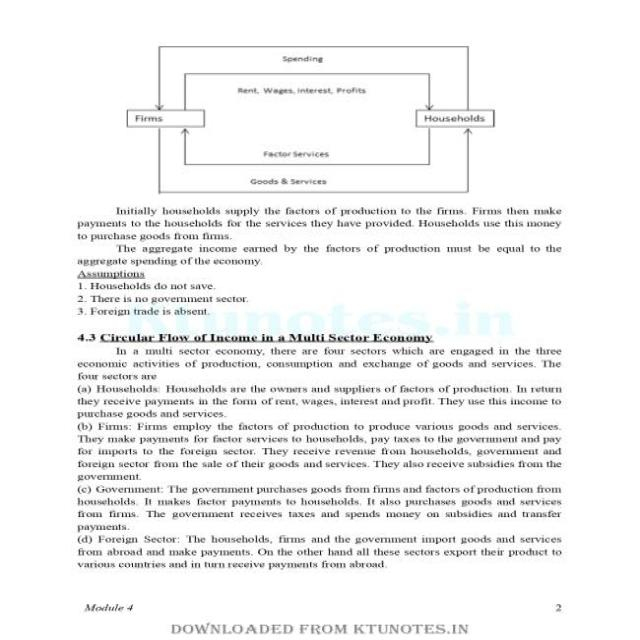Figure Detection - v3 Dataset Version2: (109, 25, 514, 200)
